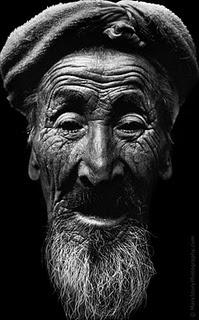Eyes: (52, 110, 88, 140), (109, 110, 147, 138)
